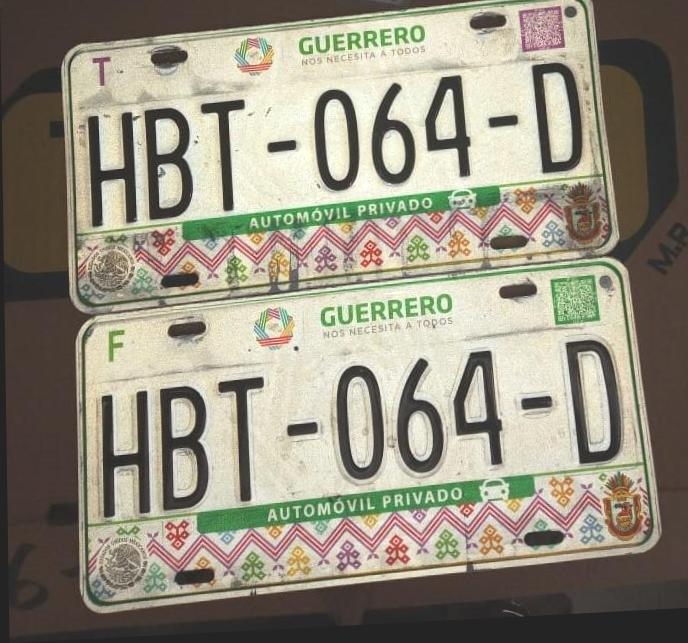License_Plate: (83, 303, 657, 581), (61, 24, 611, 280)
